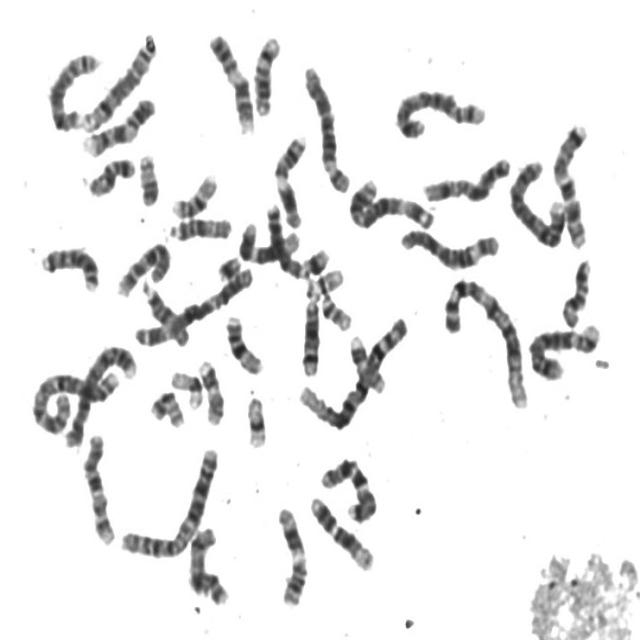A1: (294, 308, 411, 432), (436, 269, 532, 412)
A2: (115, 438, 222, 561), (27, 362, 122, 435)
A3: (131, 259, 256, 348), (344, 171, 437, 232)
B4: (60, 336, 139, 450), (504, 150, 568, 250)
B5: (389, 80, 489, 141), (524, 315, 603, 382)
C10: (77, 425, 118, 548), (111, 234, 173, 298)
C11: (272, 498, 310, 608), (269, 127, 309, 230)
C12: (304, 489, 377, 573), (234, 214, 302, 266)
C6: (298, 57, 353, 194), (396, 220, 502, 271)
C7: (548, 113, 592, 250), (314, 449, 380, 525)
C8: (77, 25, 159, 133), (43, 44, 103, 133)
C9: (203, 24, 256, 135), (77, 89, 157, 158)
D13: (262, 196, 308, 280), (35, 237, 101, 294)
D14: (249, 27, 284, 118), (296, 288, 322, 378)
D15: (137, 276, 192, 348), (163, 208, 234, 242)
E16: (220, 308, 265, 377), (166, 164, 220, 220)
E17: (344, 328, 388, 395), (194, 351, 226, 427)
E18: (557, 252, 594, 330), (83, 149, 137, 198)
F19: (165, 362, 206, 411), (241, 386, 269, 452)
F20: (145, 382, 187, 429), (184, 565, 231, 607)
G21: (297, 239, 332, 277), (212, 247, 244, 283)
G22: (316, 286, 354, 332), (308, 262, 346, 296)
X: (418, 148, 514, 205)
Y: (133, 146, 162, 207)
